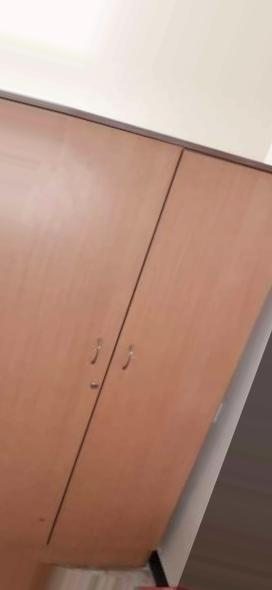Armario: (6, 76, 262, 586)
